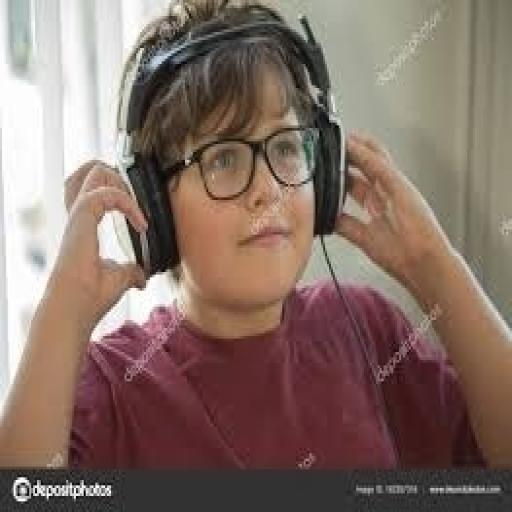listening_to_music: (0, 0, 510, 472)
